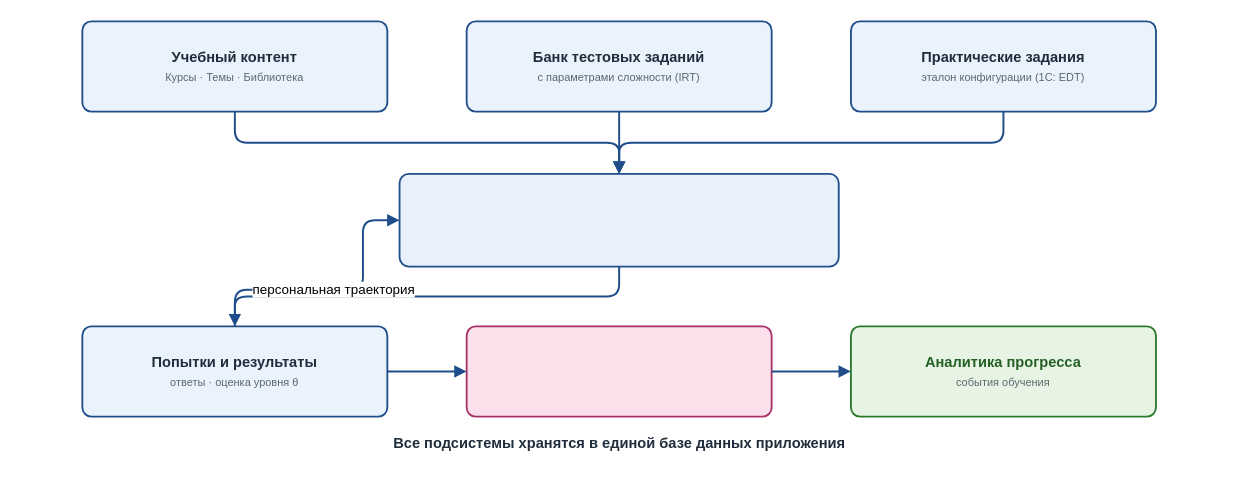
The diagram is 1237 pixels wide and 477 high, and some of its shapes have lost their labels. The centre of each missing label's shape, as x and y in pixels:
"Геймификация баллы · бейджи · рейтинг" goes at [618,371].
"ПОЛЬЗОВАТЕЛЬ роли: обучающийся · преподаватель" goes at [618,219].
